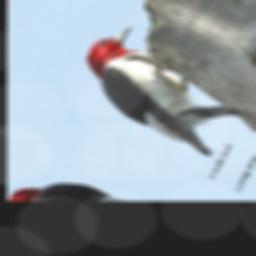Woodpecker: (65, 12, 256, 161)
